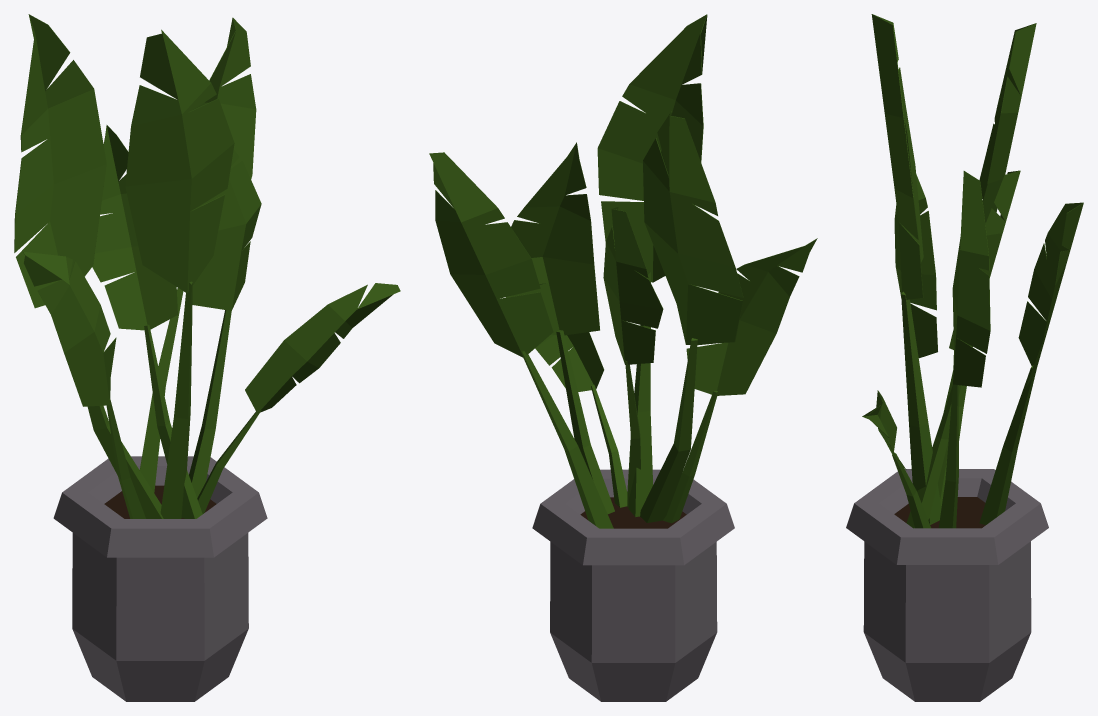
File: Flower Pot-Kgt363WkKd.glb
3 views of the same model, side by side, from view 1: azimuth 30°, elevation 25°; view 2: azimuth 150°, elevation 25°; view 3: azimuth 270°, elevation 25° (orthographic). The views are drawn at different scales.
Parts seen in each view (by area): view 1: FlowerPot4; view 2: FlowerPot4; view 3: FlowerPot4.
Part boxes in pixels (left/top/right/bottom): FlowerPot4: left=14, top=14, right=400, bottom=701; FlowerPot4: left=429, top=14, right=817, bottom=701; FlowerPot4: left=846, top=14, right=1083, bottom=701.
Bounding box in the file's own units: 1.03 × 1.85 × 0.6182.
